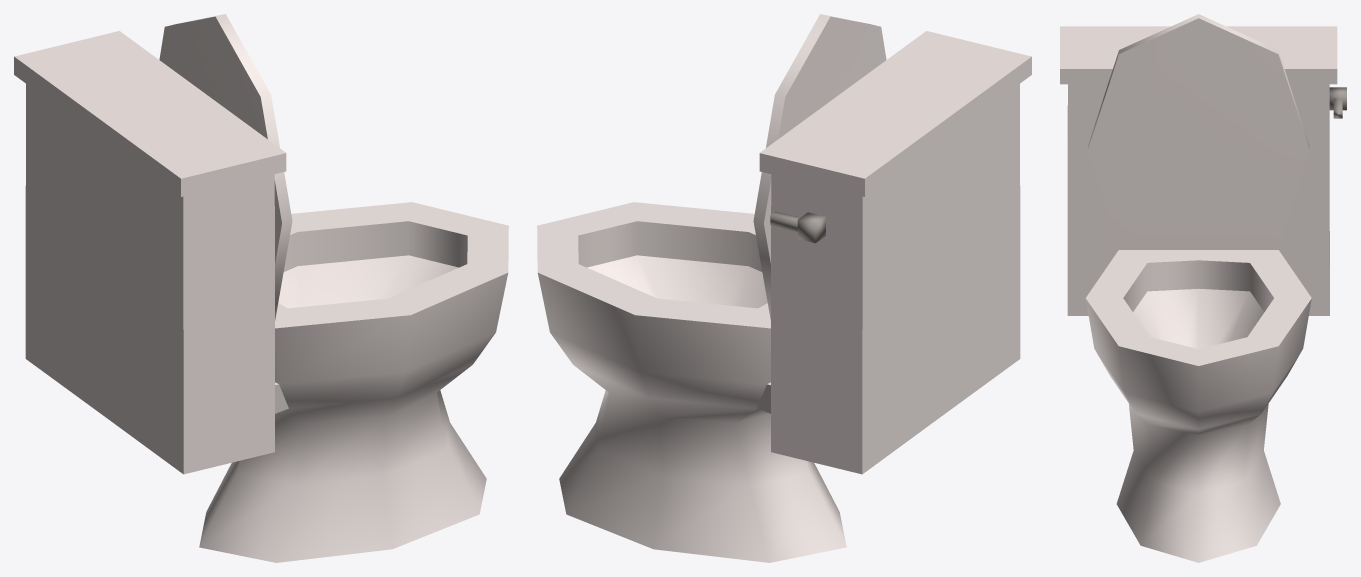
Rendered from Bathroom_Toilet.fbx.
The picture shows the model from 3 angles, left to right: view 1: azimuth 30°, elevation 25°; view 2: azimuth 150°, elevation 25°; view 3: azimuth 270°, elevation 25°; orthographic projection. The views are drawn at different scales.
Visible parts, largest first — view 1: Bathroom_Toilet; view 2: Bathroom_Toilet; view 3: Bathroom_Toilet.
Part boxes in pixels (box(x1,y1,x2,y2)): Bathroom_Toilet: box(14, 14, 508, 562); Bathroom_Toilet: box(537, 14, 1031, 562); Bathroom_Toilet: box(1060, 14, 1346, 562).
Size of the model in its own units: 159 by 196 by 116.
